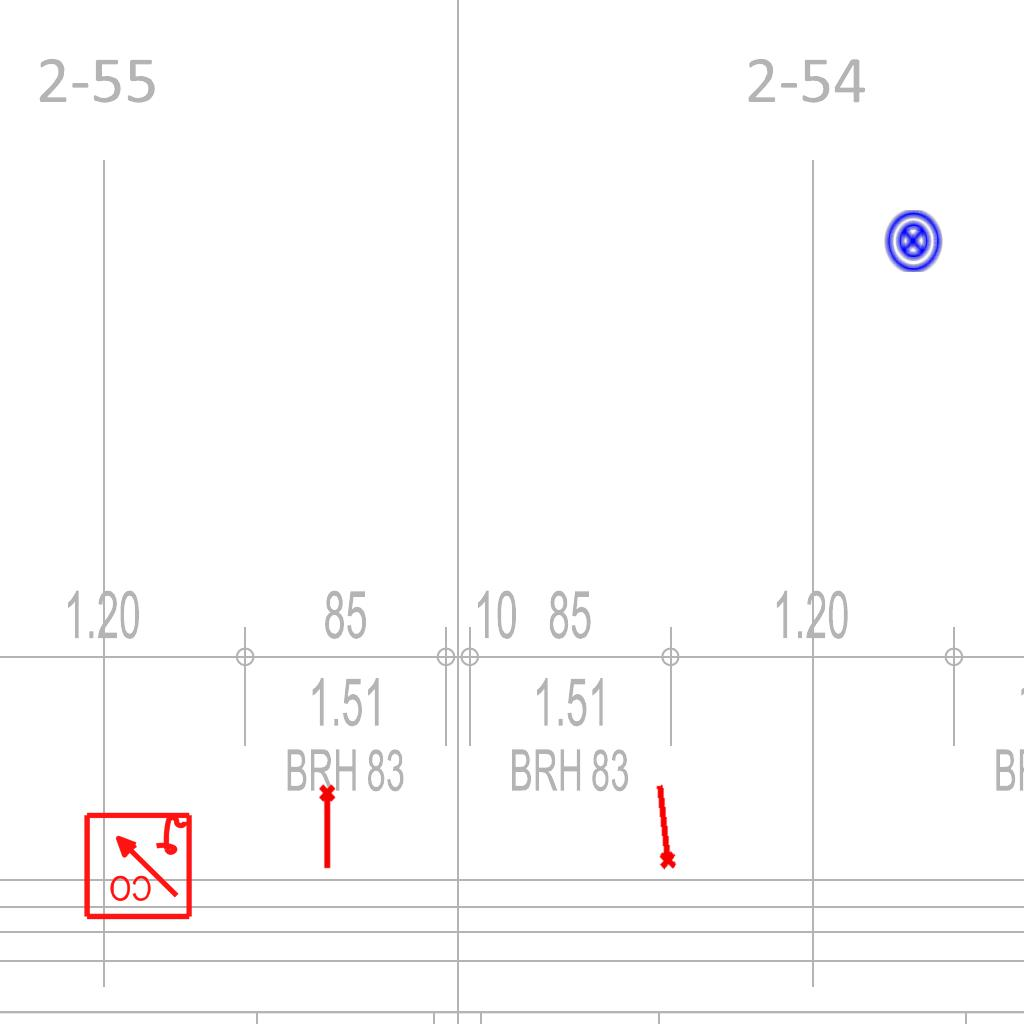ASR_Ansaugoeffnung: (646, 781, 680, 872), (317, 783, 340, 871)
ROA_Rauchmelder_optisch_mit_Signalgeber_(Sockelsirene): (81, 808, 194, 921)
Taster_beleuchtet: (880, 208, 946, 274)
